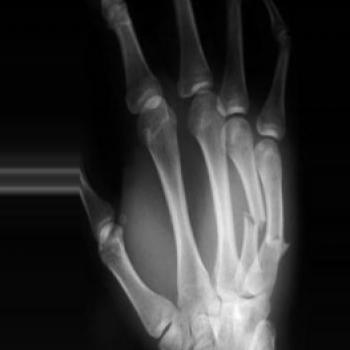Fracture: (269, 232, 301, 251), (241, 208, 266, 232)
